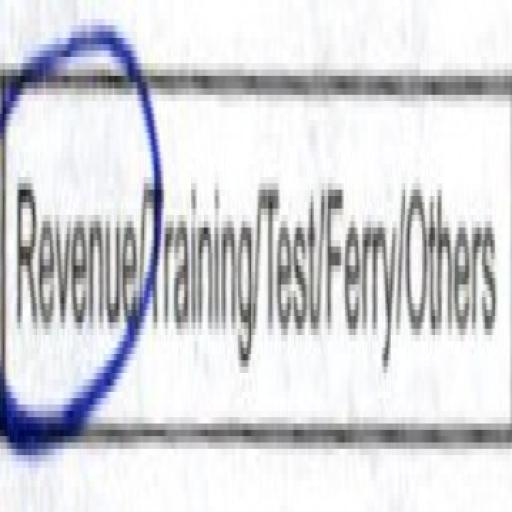check: (0, 7, 140, 444)
